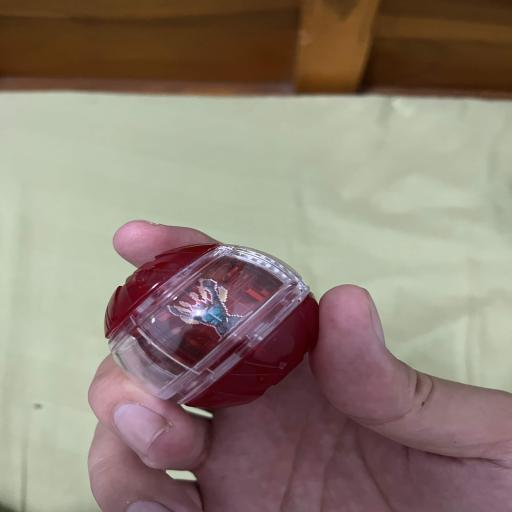capsem: (105, 244, 318, 408)
